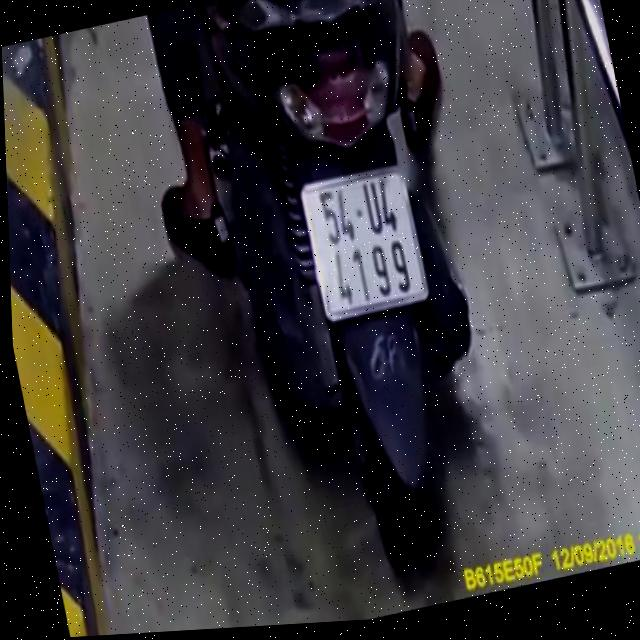motorcycle: (156, 0, 539, 606)
plate: (294, 156, 436, 329)
